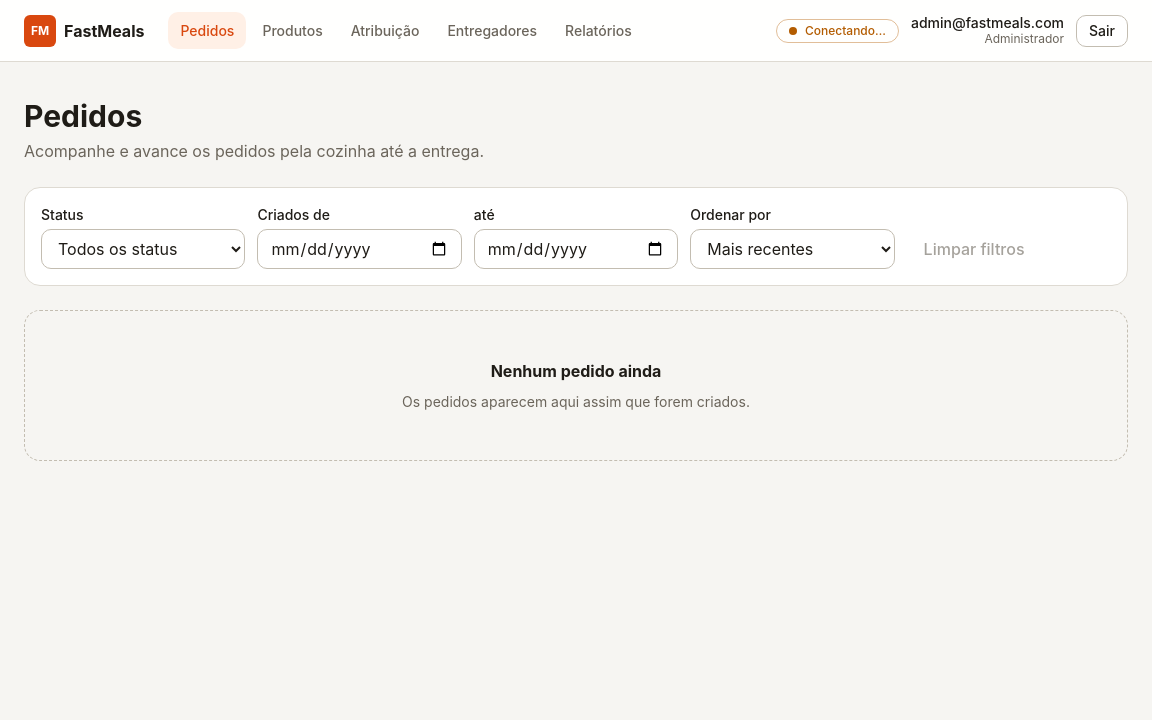
Test: Fluxo de login › sair: revoga no servidor e volta ao login
Click the button "Sair" at [1102, 30], box [1076,14,1128,46]
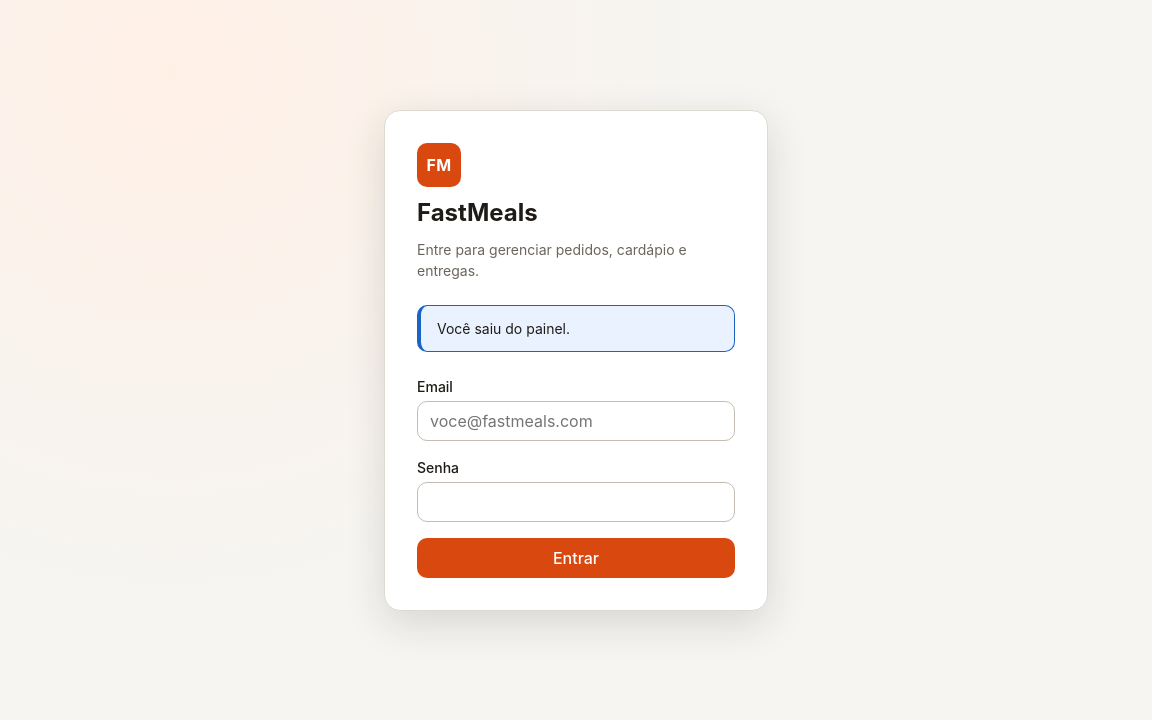
Check: the text "Você saiu do painel." is shown, box [437,320,570,336]
